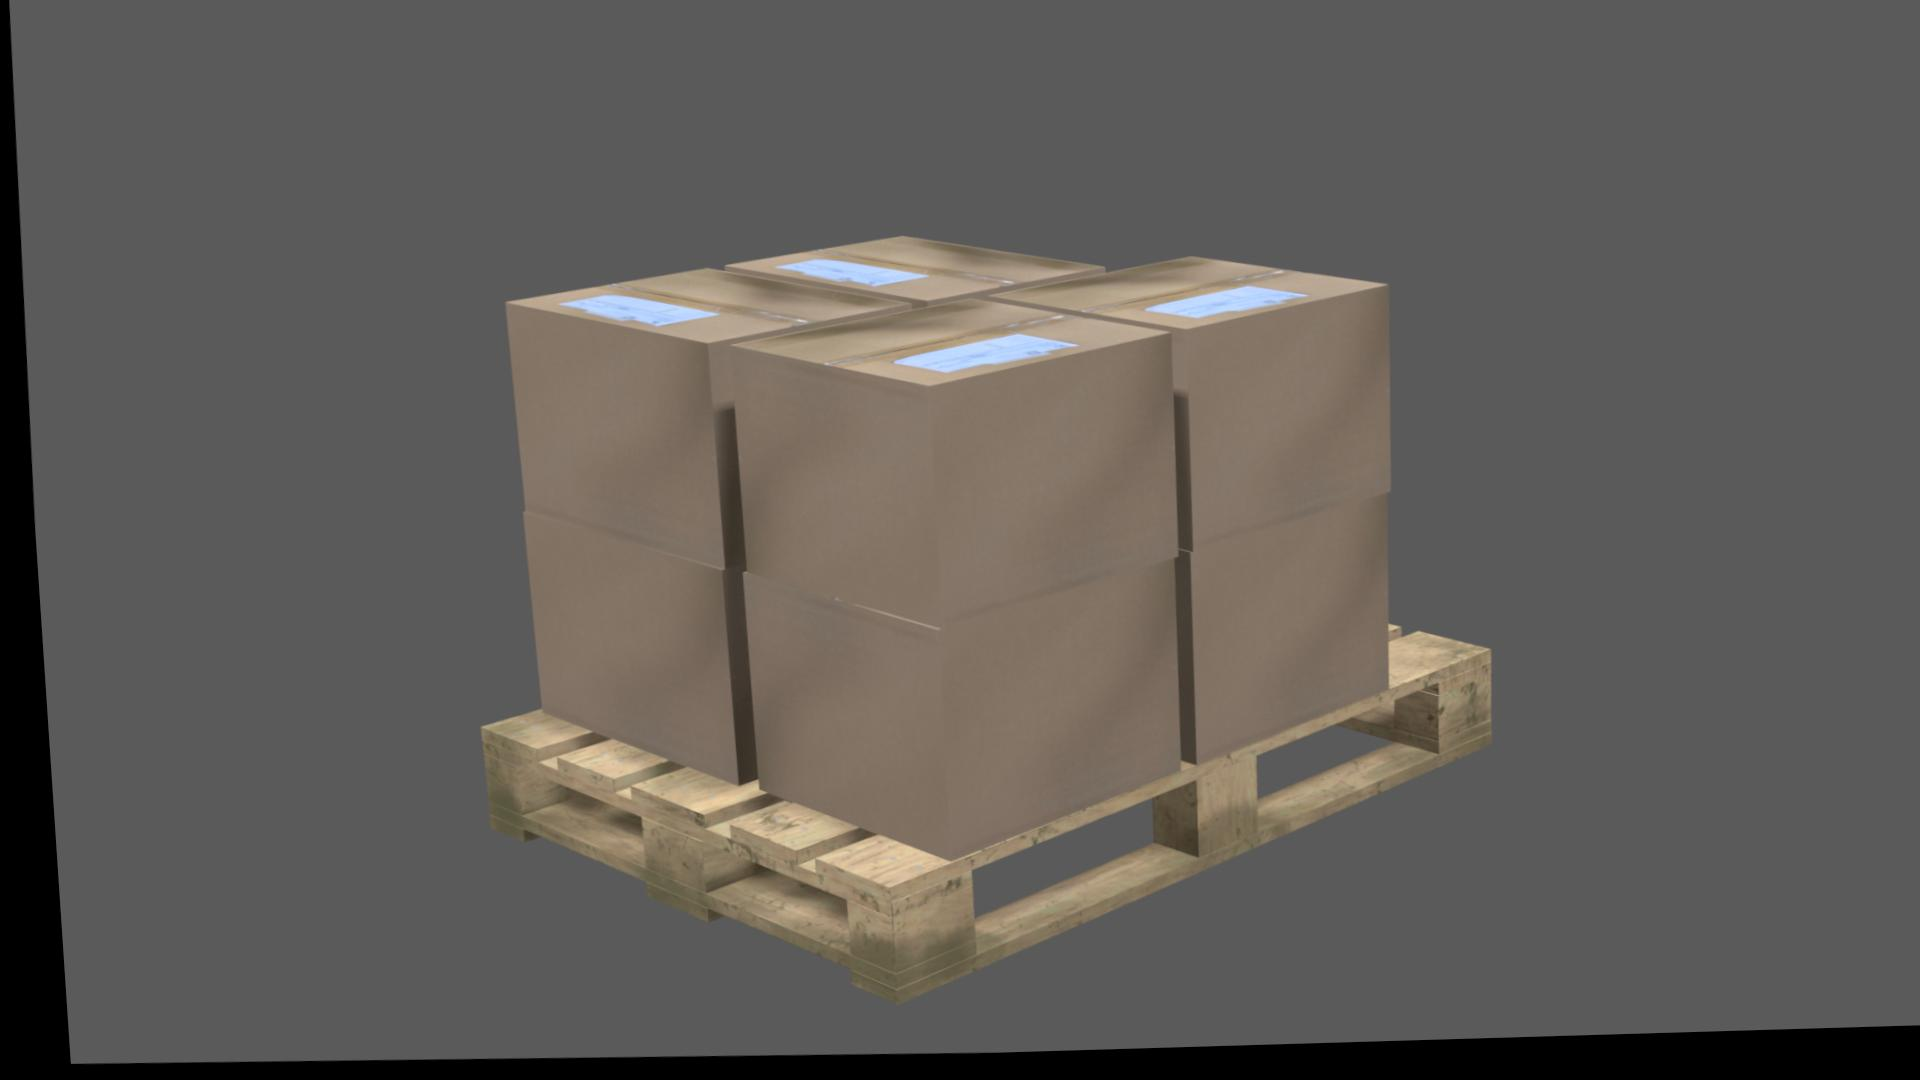group_box_left: (724, 340, 1171, 634), (735, 567, 1168, 868), (516, 514, 746, 789), (501, 306, 735, 572), (1170, 294, 1385, 559), (1171, 501, 1379, 773)
group_box_top: (729, 303, 1164, 393), (501, 272, 906, 347), (986, 262, 1382, 338), (723, 240, 1100, 306)
palet: (471, 632, 1482, 1011)
